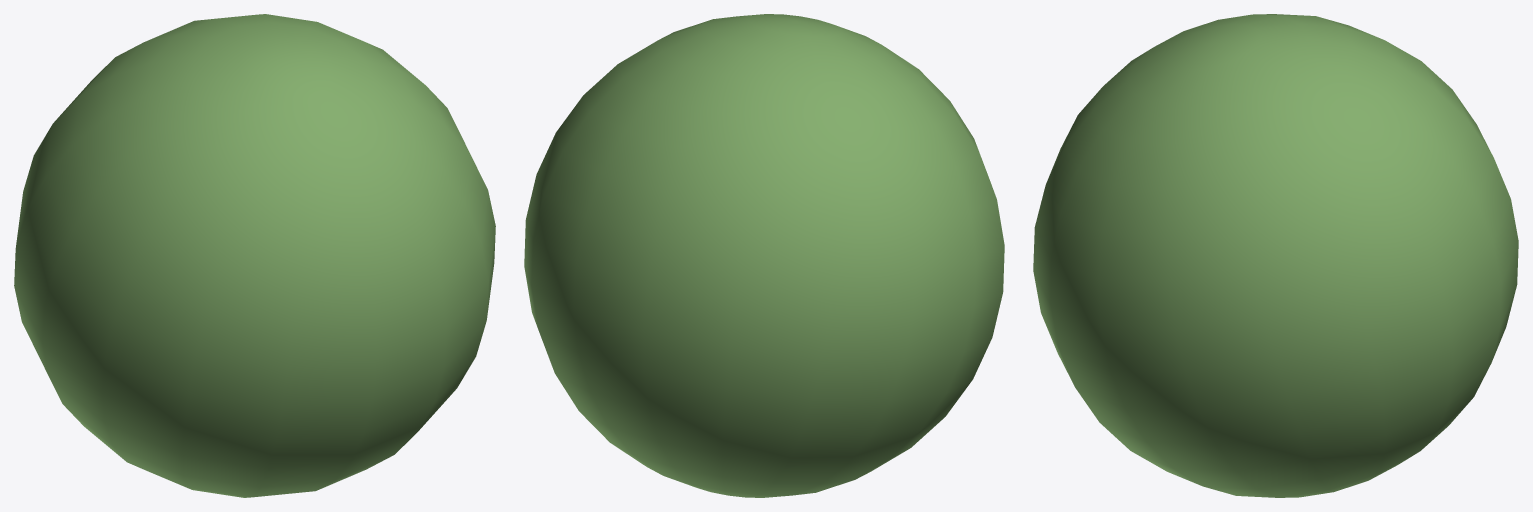
The model's file is Globo.fbx.
The picture shows the model from 3 angles, left to right: view 1: azimuth 30°, elevation 25°; view 2: azimuth 150°, elevation 25°; view 3: azimuth 270°, elevation 25°; orthographic projection.
Visible parts, largest first — view 1: Globo; view 2: Globo; view 3: Globo.
Boxes of the visible parts, <box> form: Globo: <box>14,14,495,497</box>; Globo: <box>524,14,1004,497</box>; Globo: <box>1033,14,1518,497</box>.
Size of the model in its own units: 0.5958 by 0.5945 by 0.5945.
